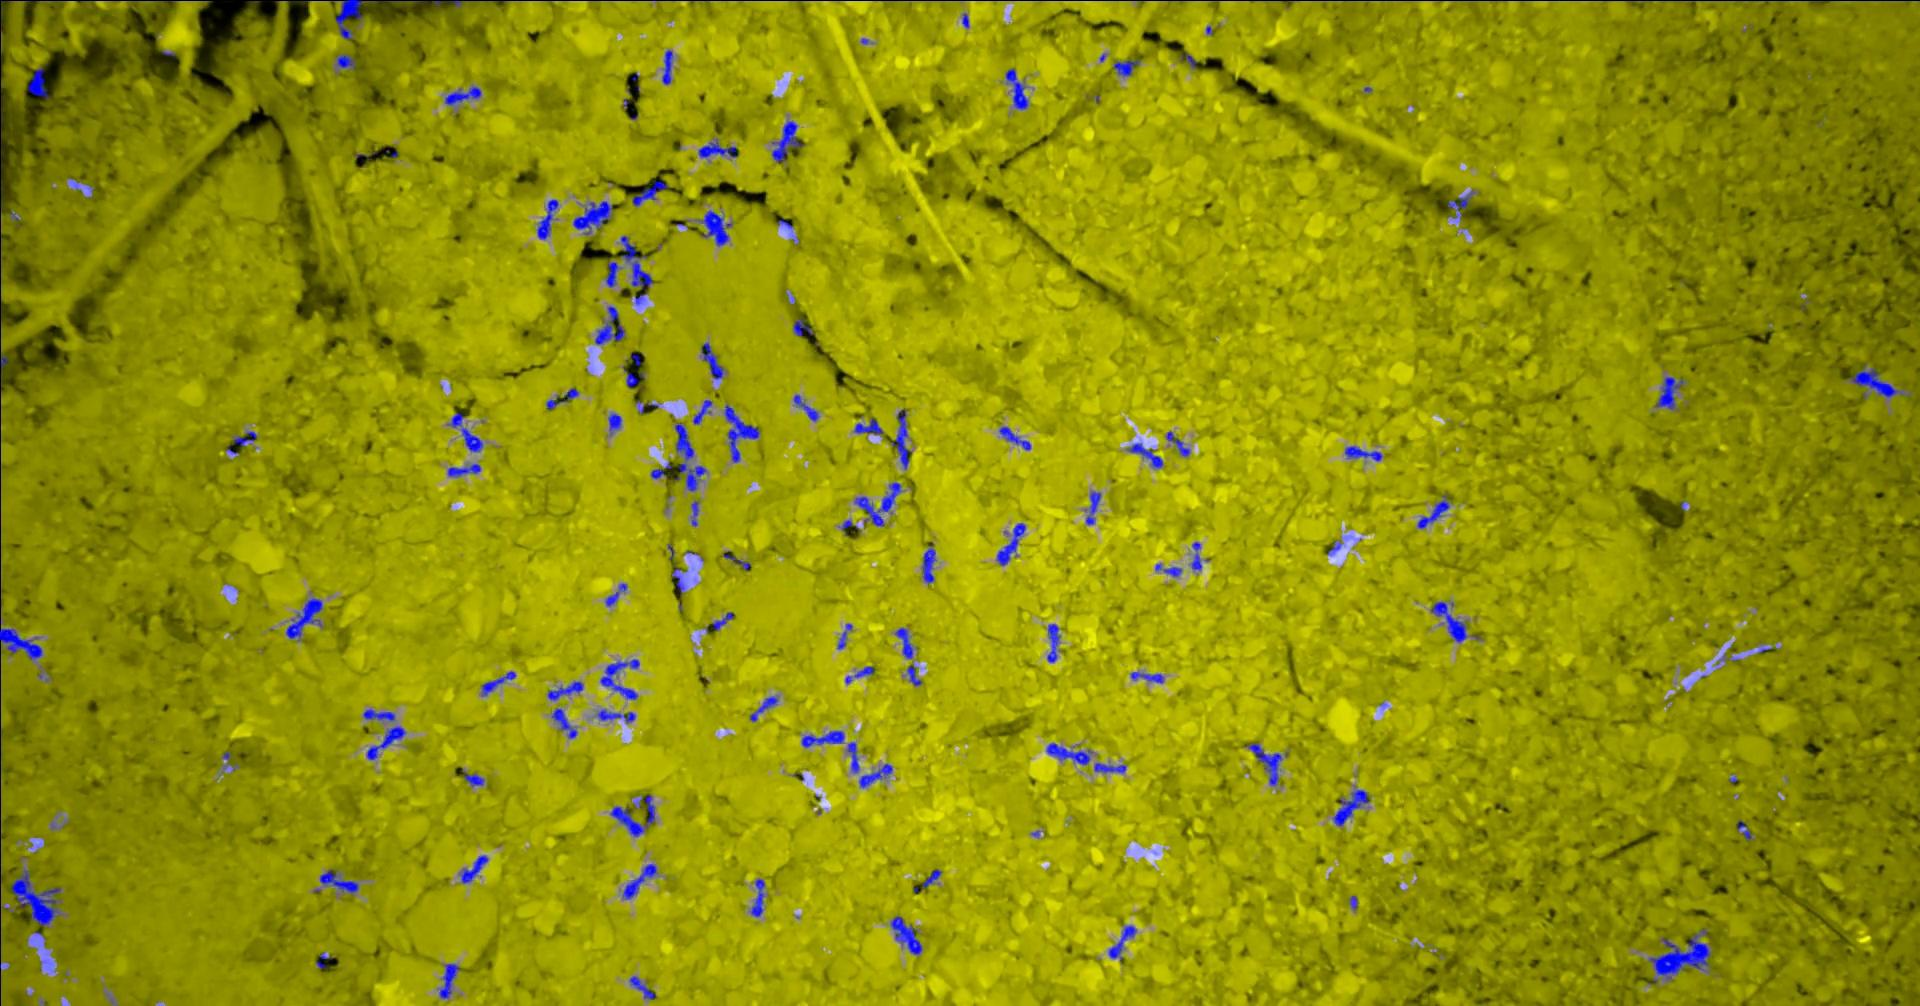ant: (334, 0, 465, 39), (620, 235, 651, 304), (674, 422, 705, 492), (724, 404, 759, 462), (855, 481, 900, 526), (610, 794, 654, 836), (1850, 365, 1902, 398), (1248, 742, 1288, 785), (599, 658, 639, 699), (284, 597, 323, 638), (1430, 601, 1465, 641), (571, 199, 612, 234), (0, 627, 42, 659), (1333, 789, 1369, 826), (366, 727, 405, 760), (771, 121, 803, 161), (996, 522, 1025, 565), (622, 862, 655, 899), (890, 409, 910, 469), (890, 915, 921, 954), (700, 210, 731, 245), (594, 306, 623, 344), (1417, 495, 1449, 528), (1109, 925, 1137, 962), (1004, 69, 1027, 109), (1655, 376, 1683, 409), (1046, 743, 1091, 763), (319, 869, 358, 892), (631, 180, 668, 205), (1126, 443, 1162, 467), (536, 199, 557, 239), (481, 671, 516, 695), (458, 855, 488, 883), (858, 763, 891, 788), (701, 342, 723, 379), (551, 708, 577, 738), (437, 963, 458, 998), (998, 426, 1030, 450), (27, 66, 50, 98), (698, 138, 737, 158), (545, 387, 578, 409), (801, 730, 844, 747), (1448, 191, 1473, 218), (749, 696, 777, 721), (444, 86, 480, 105), (792, 394, 818, 420), (547, 681, 583, 700), (913, 869, 941, 892), (629, 976, 655, 998), (706, 611, 734, 633), (1166, 431, 1189, 456), (1343, 446, 1382, 461), (894, 627, 912, 658), (922, 545, 936, 583), (723, 550, 750, 569), (750, 878, 764, 916), (461, 427, 483, 451), (1084, 492, 1100, 525), (855, 417, 883, 434), (844, 666, 872, 683), (604, 583, 626, 606), (597, 709, 635, 721), (1112, 58, 1139, 76), (1191, 541, 1208, 569), (1048, 622, 1059, 662), (693, 399, 711, 423), (447, 464, 480, 476), (362, 708, 394, 720), (837, 622, 852, 648), (1130, 671, 1163, 682), (232, 431, 257, 446), (847, 741, 858, 772), (792, 318, 813, 335), (623, 370, 644, 387), (604, 260, 618, 286), (670, 567, 684, 592), (662, 50, 672, 84), (1154, 563, 1181, 575), (650, 461, 670, 478), (1093, 762, 1125, 772), (607, 413, 621, 434), (905, 666, 921, 685), (463, 771, 483, 786), (1736, 821, 1751, 840), (315, 951, 331, 968), (337, 55, 356, 69), (447, 412, 463, 427), (1178, 53, 1196, 67), (691, 500, 698, 525)
